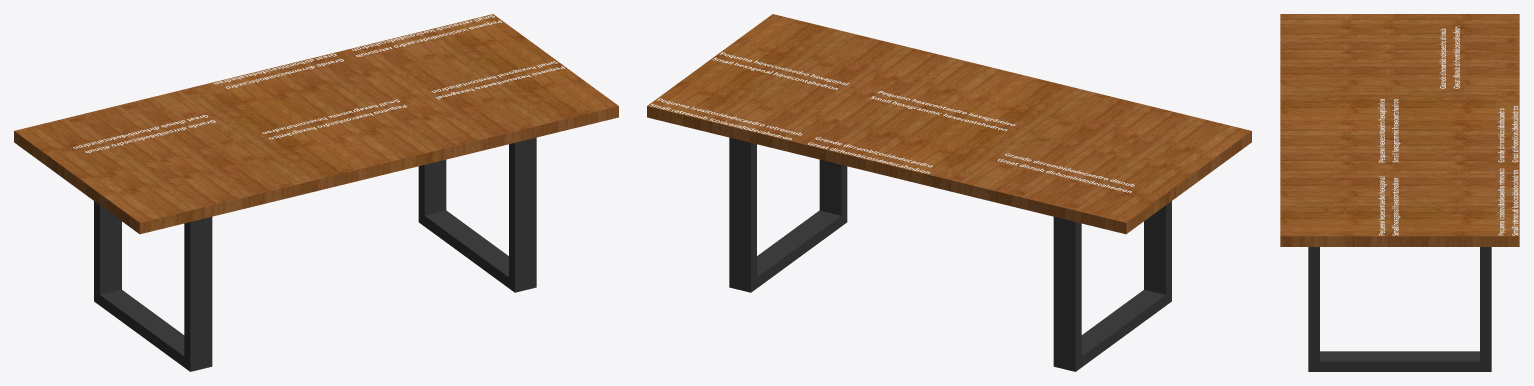
The model's file is selfinterSnubTrunc4.glb.
3 renders of one model, left to right at view 1: azimuth 30°, elevation 25°; view 2: azimuth 150°, elevation 25°; view 3: azimuth 270°, elevation 25°, orthographic. The views are drawn at different scales.
Parts seen in each view (by area): view 1: object 1, Composant#1 (×2), Pequeno icosicos, Pequeno hexecont#1, Grande dirrombid, Pequeno hexecont, Grande dirrombic#1; view 2: object 1, Composant#1 (×2), Pequeno icosicos, Pequeno hexecont#1, Grande dirrombid, Pequeno hexecont, Grande dirrombic#1; view 3: object 1, Composant#1, Pequeno icosicos, Pequeno hexecont#1, Pequeno hexecont, Grande dirrombid, Grande dirrombic#1.
Part boxes in pixels (x1,y1,x2,y2): object 1: [14, 14, 618, 234]; Composant#1 (×2): [94, 137, 536, 371]; Pequeno icosicos: [351, 15, 502, 56]; Pequeno hexecont#1: [262, 99, 406, 139]; Grande dirrombid: [73, 115, 215, 153]; Pequeno hexecont: [431, 61, 564, 99]; Grande dirrombic#1: [214, 53, 343, 88]; object 1: [647, 14, 1251, 234]; Composant#1 (×2): [729, 137, 1171, 371]; Pequeno icosicos: [649, 98, 802, 140]; Pequeno hexecont#1: [870, 91, 1014, 131]; Grande dirrombid: [998, 153, 1134, 192]; Pequeno hexecont: [712, 52, 849, 89]; Grande dirrombic#1: [808, 137, 932, 173]; object 1: [1280, 14, 1519, 246]; Composant#1: [1308, 247, 1491, 371]; Pequeno icosicos: [1498, 168, 1518, 235]; Pequeno hexecont#1: [1378, 99, 1400, 162]; Pequeno hexecont: [1378, 176, 1400, 235]; Grande dirrombid: [1439, 26, 1459, 88]; Grande dirrombic#1: [1498, 106, 1518, 162].
Bounding box in the file's own units: 2.2 × 0.771 × 1.
3 materials, 1 textured.
